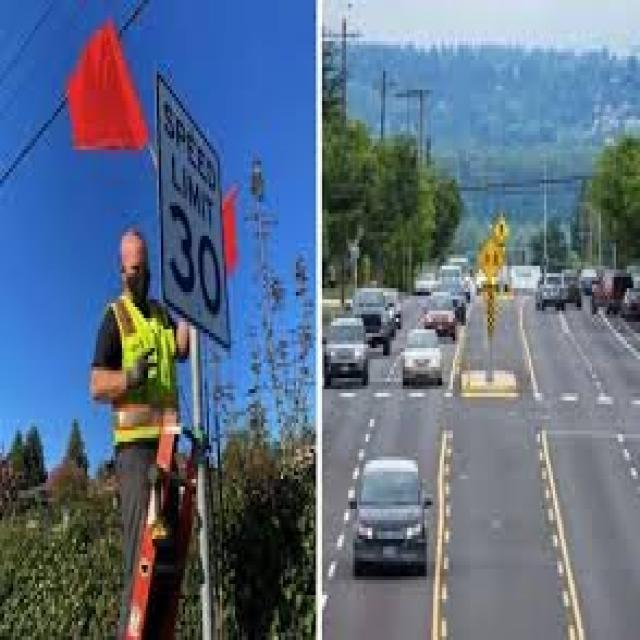speedLimit30: (152, 75, 231, 333)
